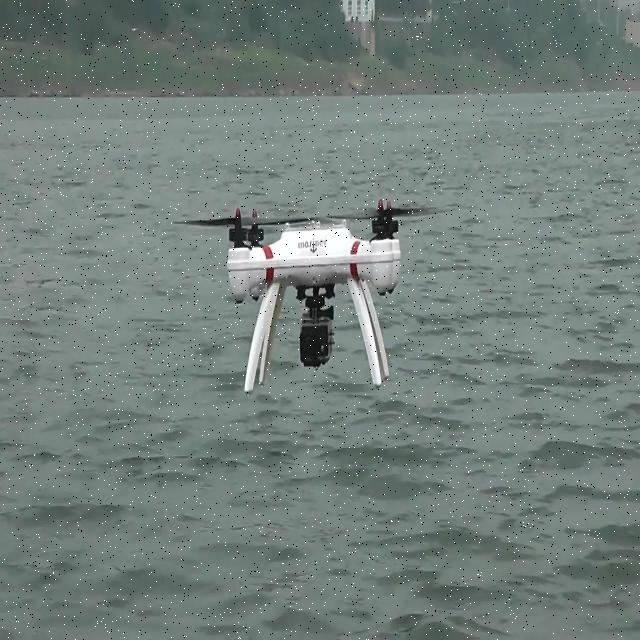UAV: (210, 199, 416, 396)
